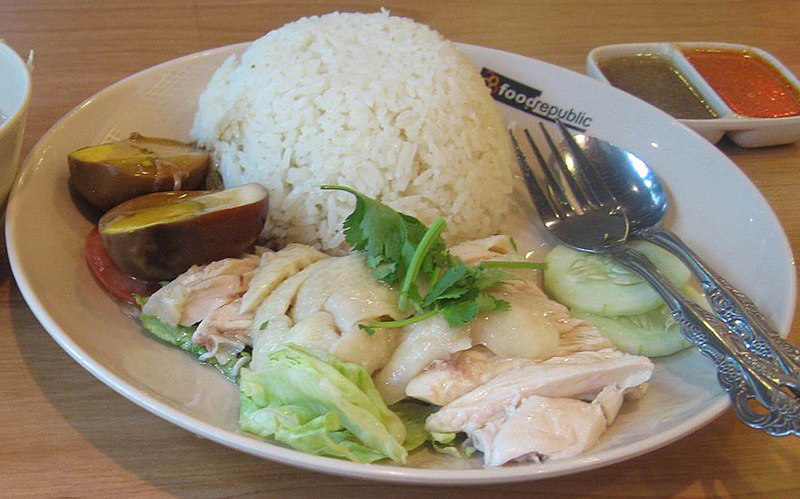Steamed Chicken Rice: (181, 7, 644, 460)
